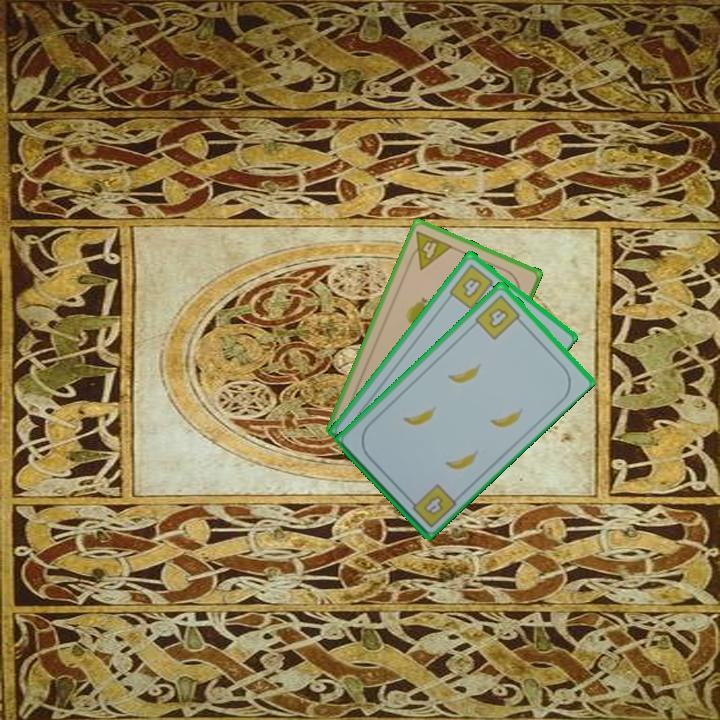4b: (445, 260, 500, 312), (471, 290, 526, 342), (403, 480, 459, 530)
4p: (404, 227, 455, 272)
